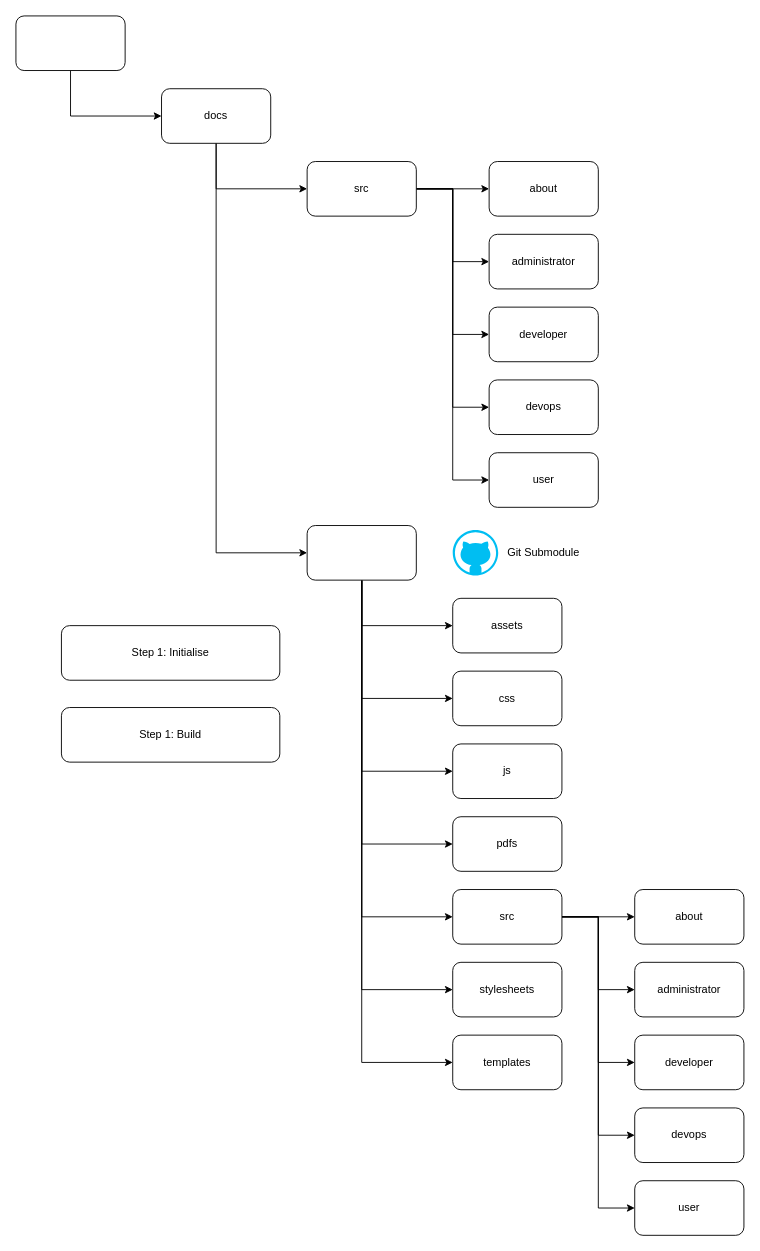
This 760x1251 diagram has some shape labels left out. The box of each missing label's shape, as (x1, y1, x2, y2) in pixels:
kartoza-mkdocs-base: (306, 525, 416, 580)
Your Project: (15, 15, 125, 71)
